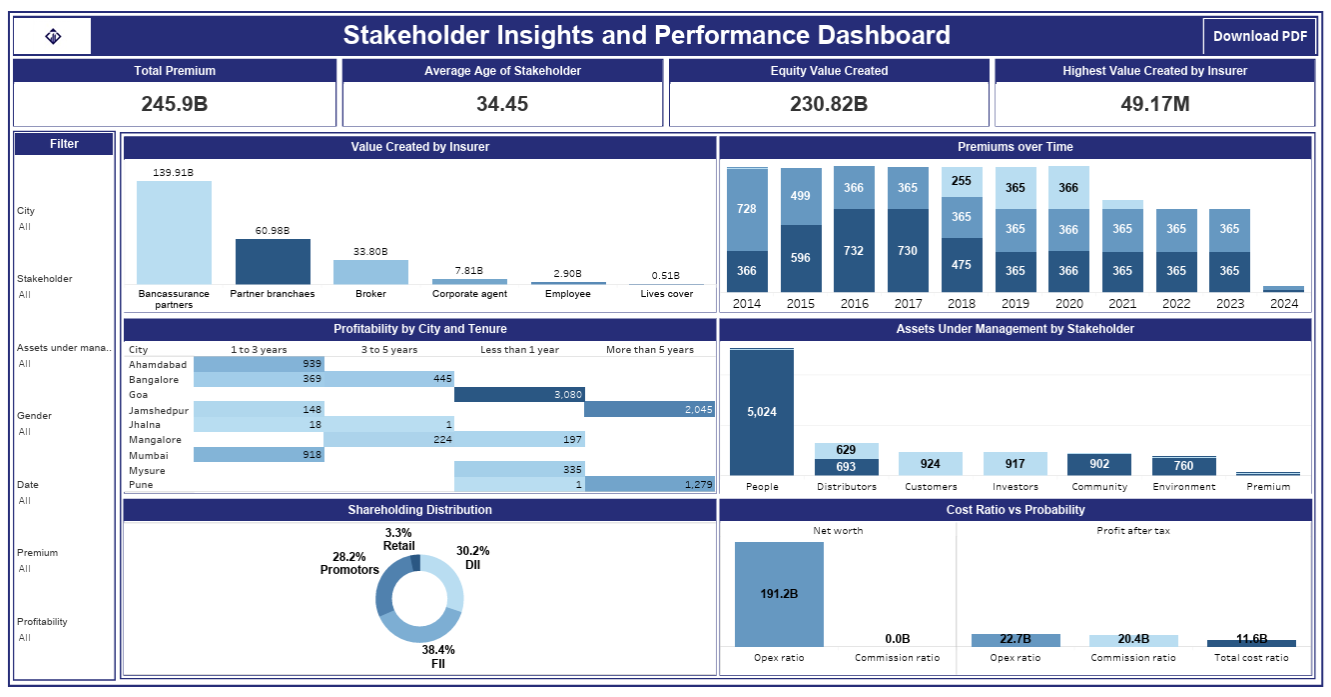

What the dashboard file says about the page in this screenshot:
{"tool":"tableau","page":{"name":"Stakeholder Insights and Performance Dashboard","canvas":[1000,1000],"units":"permille","ordinal":0},"visuals":[{"type":"image","param":"D:/Data analytics project by me/Tableau/3. Banking Data Analysis/data/image.png","box":[10.8,22.5,66.3,64.9]},{"type":"text","box":[77.2,22.5,813.1,64.9]},{"type":"dashboard-object","box":[890.3,22.5,98.9,64.9]},{"type":"worksheet","title":"Total Premium","mark":"Automatic","box":[9,91.1,245.9,132.3]},{"type":"worksheet","title":"Average age of Stackholder","mark":"Automatic","box":[255,91.1,245.3,132.3]},{"type":"worksheet","title":"Equity Value Created","mark":"Automatic","box":[500.3,91.1,245.3,132.3]},{"type":"worksheet","title":"Highest Value Created by Insurer","mark":"Automatic","box":[745.6,91.1,245.3,132.3]},{"type":"worksheet","title":"Filter","mark":"Automatic","box":[10.2,228.5,87.4,93.6]},{"type":"worksheet","title":"Value Created by Insurer","mark":"Automatic","rows":["Value Created"],"cols":["Insurer"],"box":[104.9,233.5,440.6,243.4]},{"type":"worksheet","title":"Premiums Over Time","mark":"Bar","rows":["Premium 1"],"cols":["Date"],"box":[545.5,233.5,440.6,243.4]},{"type":"filter","title":"Filter","param":"[federated.1lgxfvi02c68ui1dchpyg1so1626].[none:City:nk]","box":[10.2,322.1,87.4,93.6]},{"type":"filter","title":"Filter","param":"[federated.1lgxfvi02c68ui1dchpyg1so1626].[none:Stakeholder:nk]","box":[10.2,415.7,87.4,93.6]},{"type":"worksheet","title":"Profitability by City and Tenure","mark":"Square","rows":["City"],"cols":["Policy tenuer"],"box":[104.9,481.9,440.6,242.2]},{"type":"worksheet","title":"Assets Under Management by Stakeholder","mark":"Automatic","rows":["Assets under management"],"cols":["Stakeholder"],"box":[545.5,481.9,440.6,242.2]},{"type":"filter","title":"Filter","param":"[federated.1lgxfvi02c68ui1dchpyg1so1626].[none:Assets under management:nk]","box":[10.2,509.4,87.4,93.6]},{"type":"filter","title":"Filter","param":"[federated.1lgxfvi02c68ui1dchpyg1so1626].[none:Gender:nk]","box":[10.2,603,87.4,93.6]},{"type":"filter","title":"Filter","param":"[federated.1lgxfvi02c68ui1dchpyg1so1626].[my:Date:ok]","box":[10.2,696.6,87.4,93.6]},{"type":"worksheet","title":"Shareholding Distribution","mark":"Pie","rows":["Calculation_1326037095157760","Calculation_1326037095157760"],"box":[104.3,727.8,441.2,244.7]},{"type":"worksheet","title":"Cost Ratio vs Probability","mark":"Automatic","rows":["Value Created"],"cols":["Profitability","Cost ratio"],"box":[545.5,727.8,441.2,244.7]},{"type":"filter","title":"Filter","param":"[federated.1lgxfvi02c68ui1dchpyg1so1626].[none:Premium 1:nk]","box":[10.2,790.3,87.4,93.6]},{"type":"filter","title":"Filter","param":"[federated.1lgxfvi02c68ui1dchpyg1so1626].[none:Profitability:nk]","box":[10.2,883.9,87.4,92.4]}]}

Visuals, with their boxes on the dashboard's canvas, which has no fixed pixel size, in thousandths of its width and height (x1, y1, x2, y2). These are canvas units, not pixel positions in the 1331x697 screenshot, which may show the page scaled, cropped or inside an application window:
image: x1=11 y1=22 x2=77 y2=87
text: x1=77 y1=22 x2=890 y2=87
dashboard-object: x1=890 y1=22 x2=989 y2=87
"Total Premium" worksheet: x1=9 y1=91 x2=255 y2=223
"Average age of Stackholder" worksheet: x1=255 y1=91 x2=500 y2=223
"Equity Value Created" worksheet: x1=500 y1=91 x2=746 y2=223
"Highest Value Created by Insurer" worksheet: x1=746 y1=91 x2=991 y2=223
"Filter" worksheet: x1=10 y1=228 x2=98 y2=322
"Value Created by Insurer" worksheet: x1=105 y1=234 x2=546 y2=477
"Premiums Over Time" worksheet (Bar marks): x1=546 y1=234 x2=986 y2=477
"Filter" filter: x1=10 y1=322 x2=98 y2=416
"Filter" filter: x1=10 y1=416 x2=98 y2=509
"Profitability by City and Tenure" worksheet (Square marks): x1=105 y1=482 x2=546 y2=724
"Assets Under Management by Stakeholder" worksheet: x1=546 y1=482 x2=986 y2=724
"Filter" filter: x1=10 y1=509 x2=98 y2=603
"Filter" filter: x1=10 y1=603 x2=98 y2=697
"Filter" filter: x1=10 y1=697 x2=98 y2=790
"Shareholding Distribution" worksheet (Pie marks): x1=104 y1=728 x2=546 y2=972
"Cost Ratio vs Probability" worksheet: x1=546 y1=728 x2=987 y2=972
"Filter" filter: x1=10 y1=790 x2=98 y2=884
"Filter" filter: x1=10 y1=884 x2=98 y2=976
